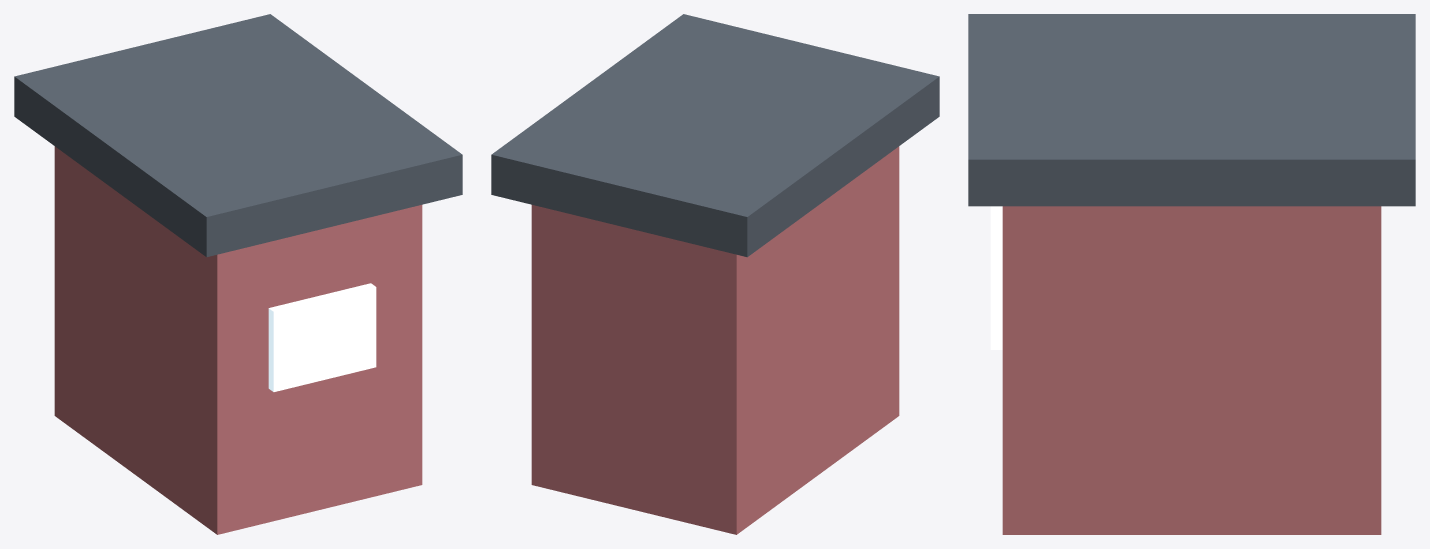
File: toy_train_cab.glb
3 renders of one model, left to right at view 1: azimuth 30°, elevation 25°; view 2: azimuth 150°, elevation 25°; view 3: azimuth 270°, elevation 25°, orthographic. The views are drawn at different scales.
Visible parts, largest first — view 1: Cab, Cab roof, Cab window; view 2: Cab, Cab roof; view 3: Cab, Cab roof, Cab window.
Part boxes in pixels (x1,y1,x2,y2): Cab: (54,146,422,534); Cab roof: (14,14,462,257); Cab window: (268,283,376,391); Cab: (531,146,899,534); Cab roof: (491,14,939,257); Cab: (1002,206,1381,534); Cab roof: (968,14,1415,206); Cab window: (990,206,1002,349).
Size of the model in its own units: 0.2 by 0.25 by 0.26.
